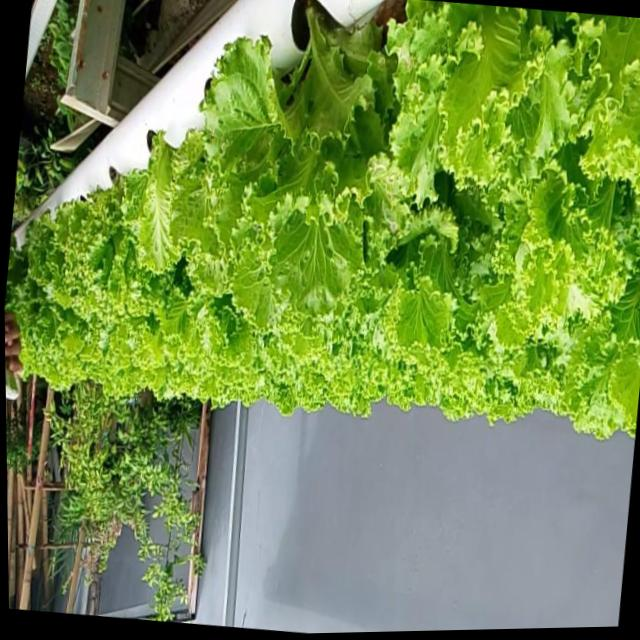Mature: (4, 0, 640, 440), (172, 0, 398, 326), (46, 167, 155, 328)
